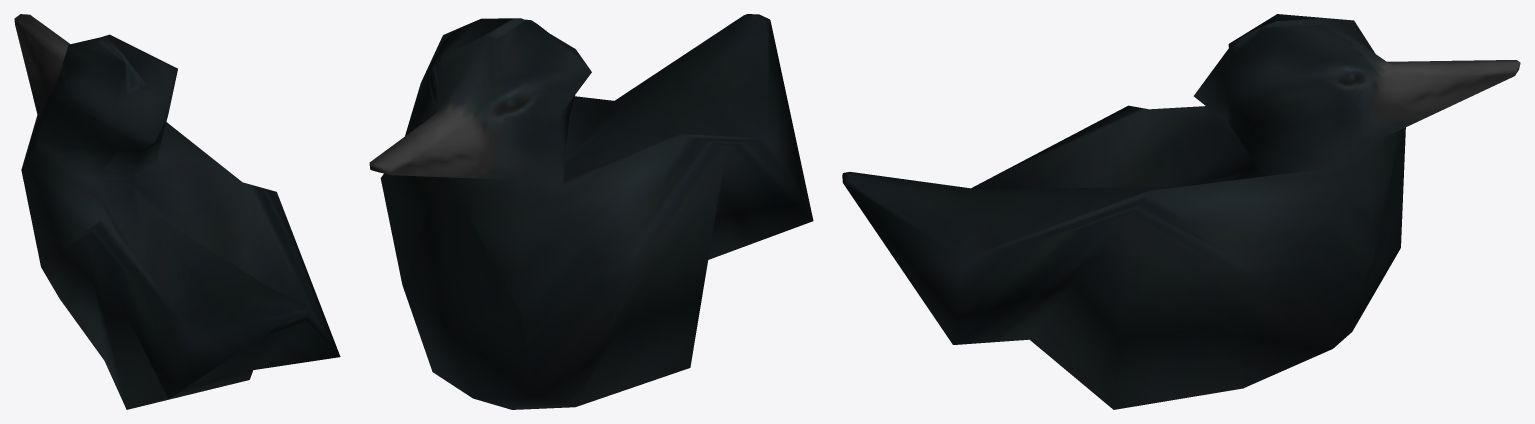
Rendered from duck_odin.fbx.
3 views of the same model, side by side, from view 1: azimuth 30°, elevation 25°; view 2: azimuth 150°, elevation 25°; view 3: azimuth 270°, elevation 25° (orthographic). The views are drawn at different scales.
Parts seen in each view (by area): view 1: odin; view 2: odin; view 3: odin.
Part boxes in pixels (<box>): odin: <box>14,14,340,409</box>; odin: <box>369,14,813,409</box>; odin: <box>842,14,1520,409</box>.
Size of the model in its own units: 0.1213 by 0.18 by 0.3115.
